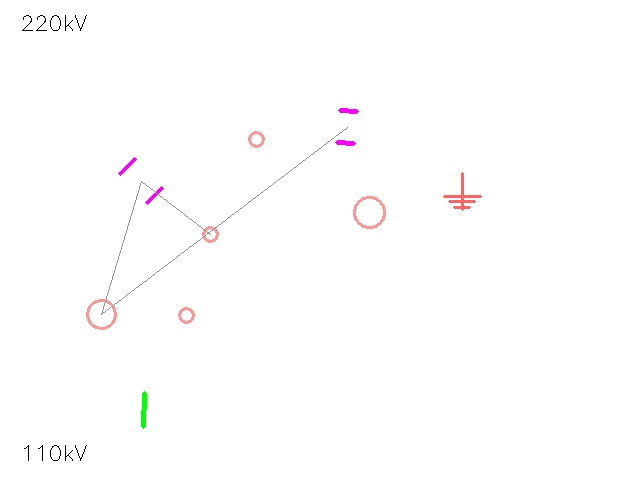busbar: (123, 389, 165, 431)
capacitor: (108, 148, 174, 214), (320, 100, 374, 154)
disconnect_switch: (73, 286, 129, 342), (195, 219, 225, 249)
fuse: (338, 181, 400, 243), (241, 124, 271, 154)
ground: (444, 173, 480, 209)
surge_arrester: (171, 300, 201, 330)
